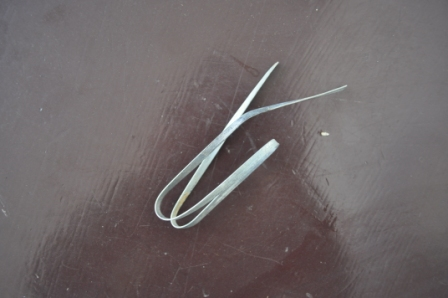METAL STRIP: (155, 61, 349, 232)
